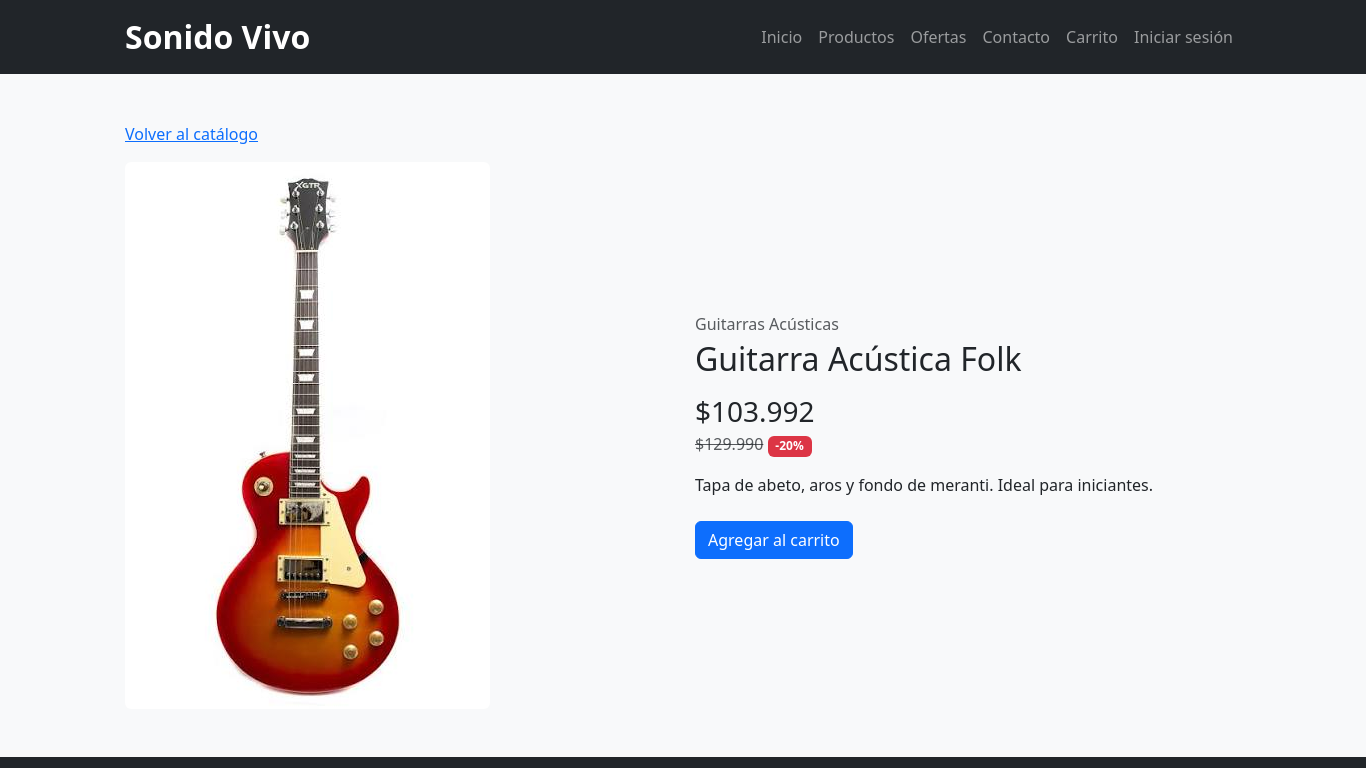
Test: ProductDetailPage › al agregar al carrito sube el contador del Header
Click the button "Agregar al carrito" at (774, 540), box [695,521,853,559]
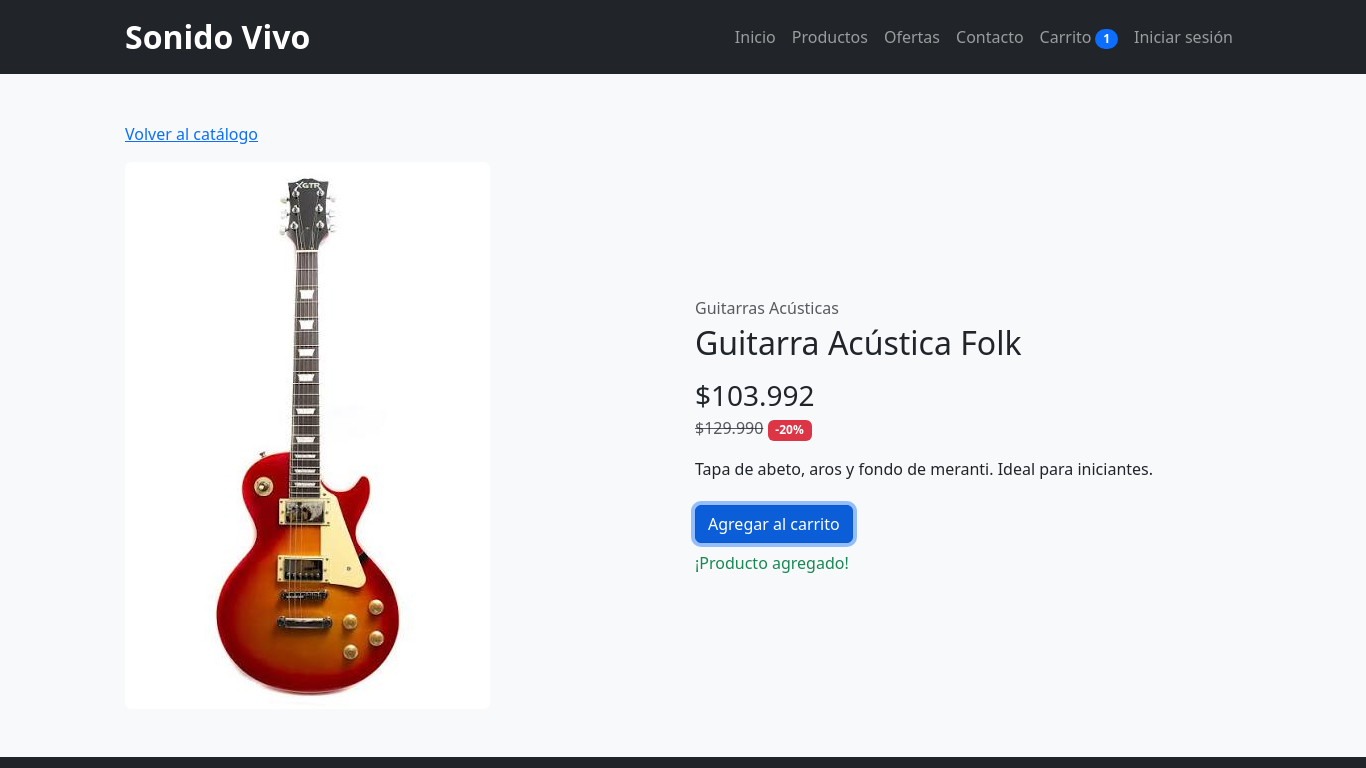
Now the text with test id "contador-carrito" reads "1", box [1103,30,1110,47]
